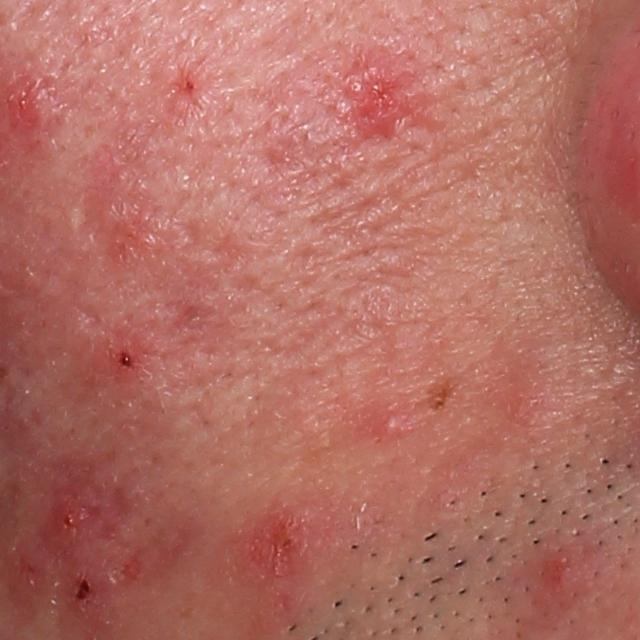papule: (345, 52, 414, 132), (91, 317, 162, 389), (242, 510, 308, 580), (57, 562, 108, 621), (3, 73, 49, 131), (534, 549, 583, 601), (93, 195, 144, 237)
